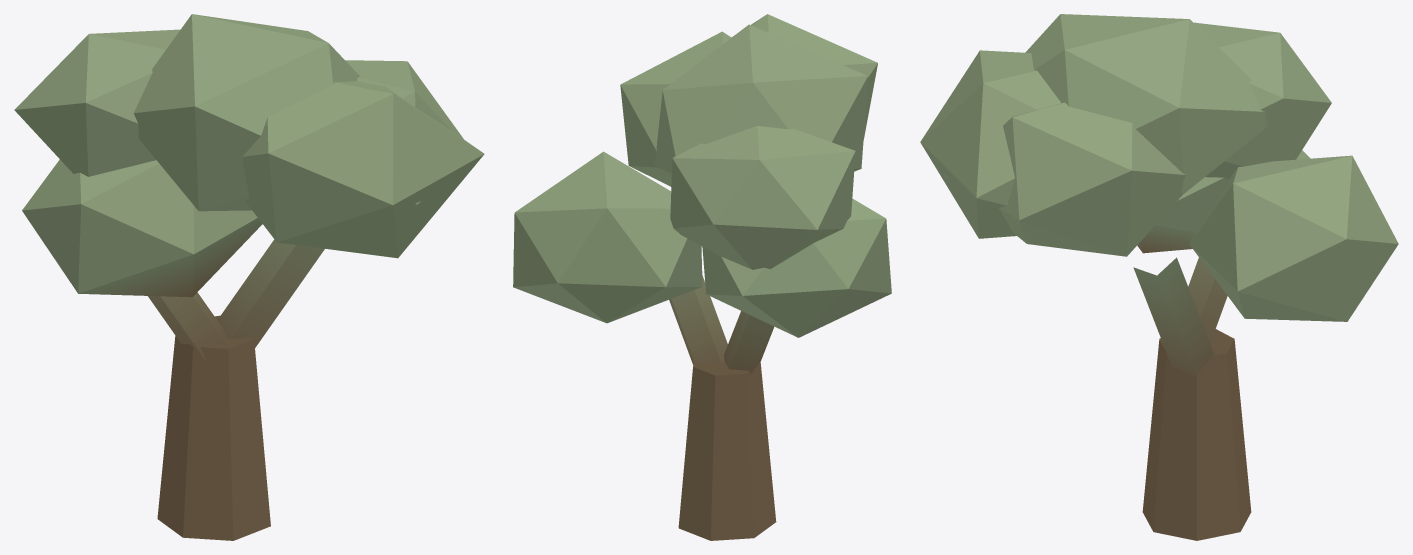
File: olive_0.glb
3 renders of one model, left to right at view 1: azimuth 30°, elevation 25°; view 2: azimuth 150°, elevation 25°; view 3: azimuth 270°, elevation 25°, orthographic. The views are drawn at different scales.
Visible parts, largest first — view 1: olive_0; view 2: olive_0; view 3: olive_0.
Part boxes in pixels (left/top/right/bottom): olive_0: left=14, top=14, right=484, bottom=540; olive_0: left=513, top=14, right=891, bottom=540; olive_0: left=920, top=14, right=1398, bottom=540.
Bounding box in the file's own units: 1.84 × 2.51 × 2.23.
